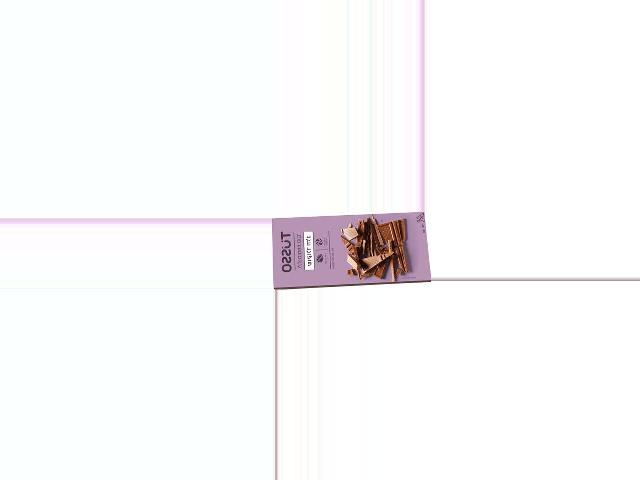chocolate: (275, 216, 431, 285)
